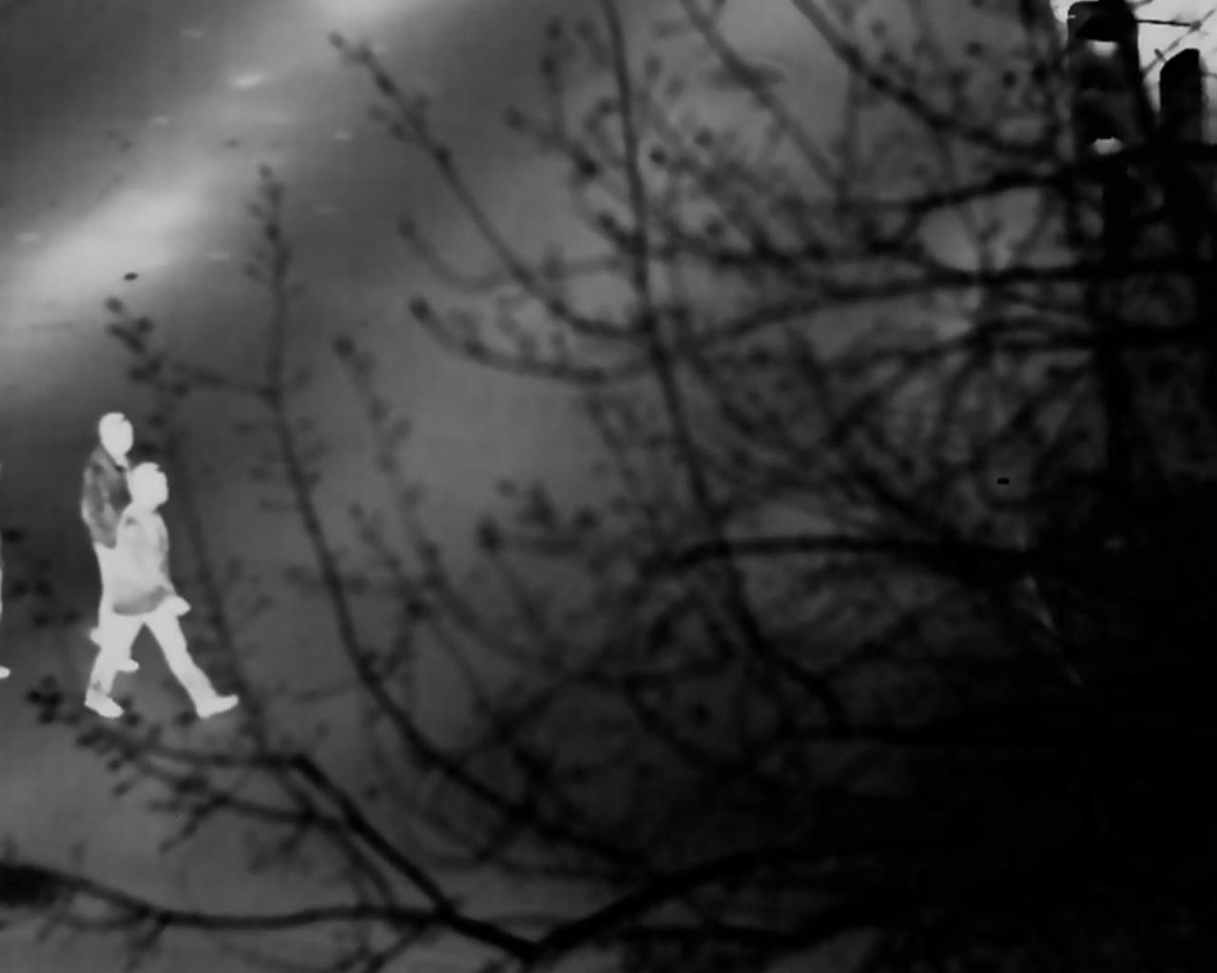person: (121, 467, 224, 730), (77, 391, 155, 649)
